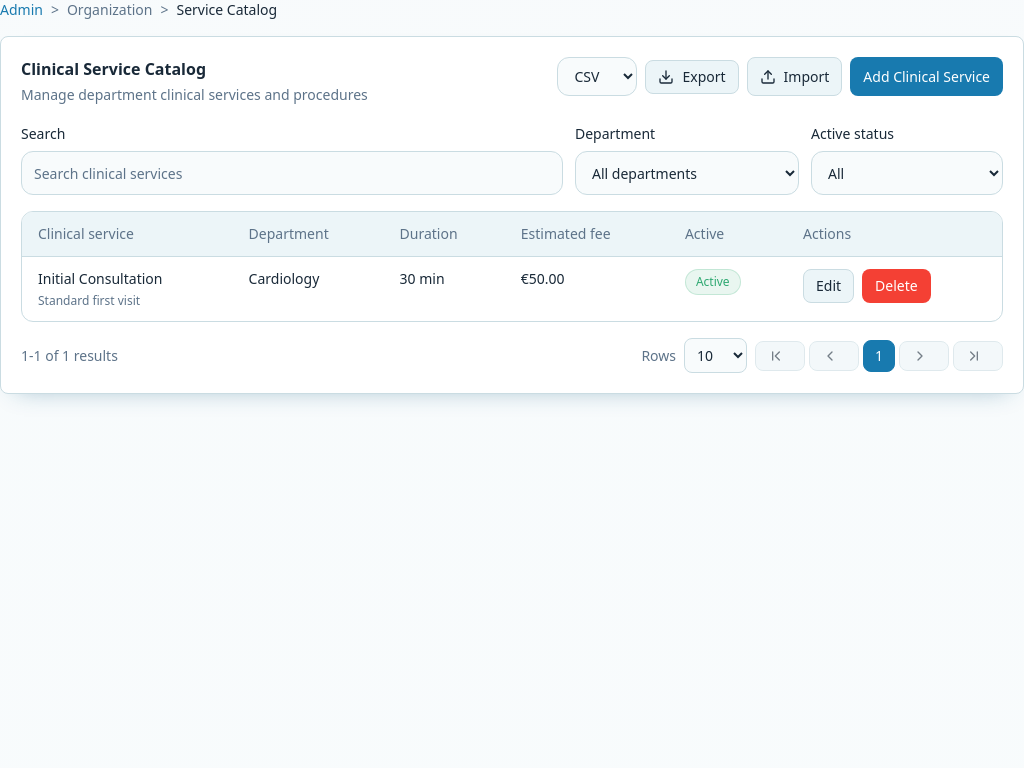
it: ServicesPage › updates an existing service
This screenshot has width=1024, height=768.
Expected: the text "Initial Consultation" is shown, [38,269,162,288]
Click the button "Edit": (829, 286) [803,269,854,303]
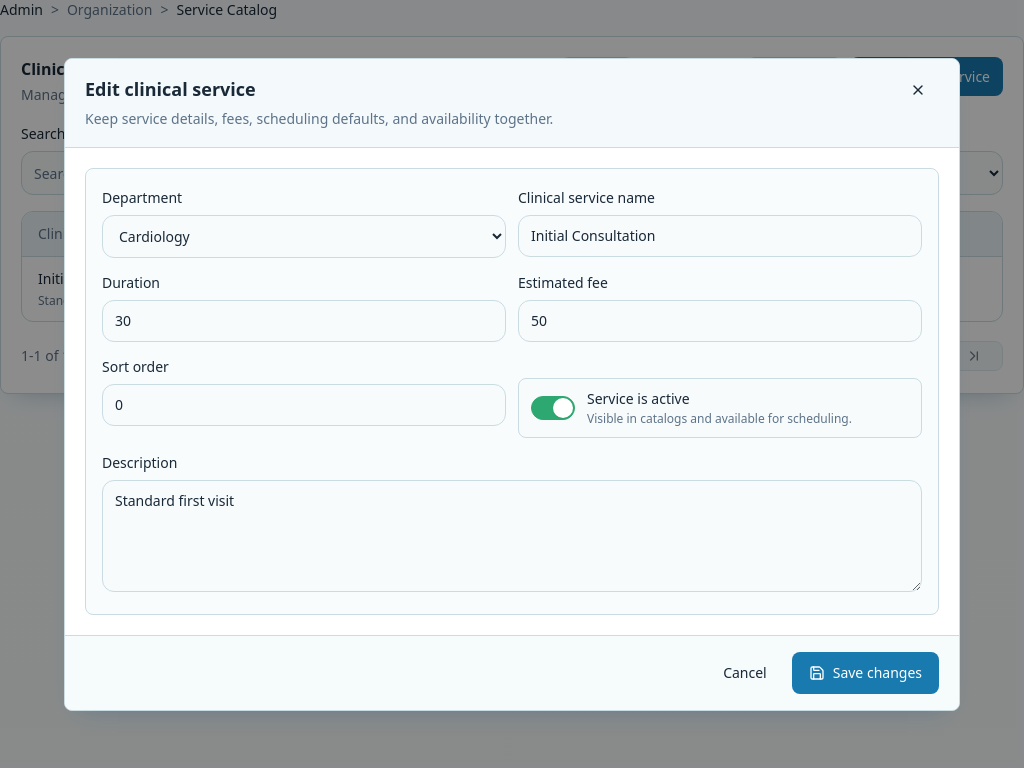
Replace the text in the field with id "service-name" with "Updated Consultation": (720, 236) [518,214,922,256]
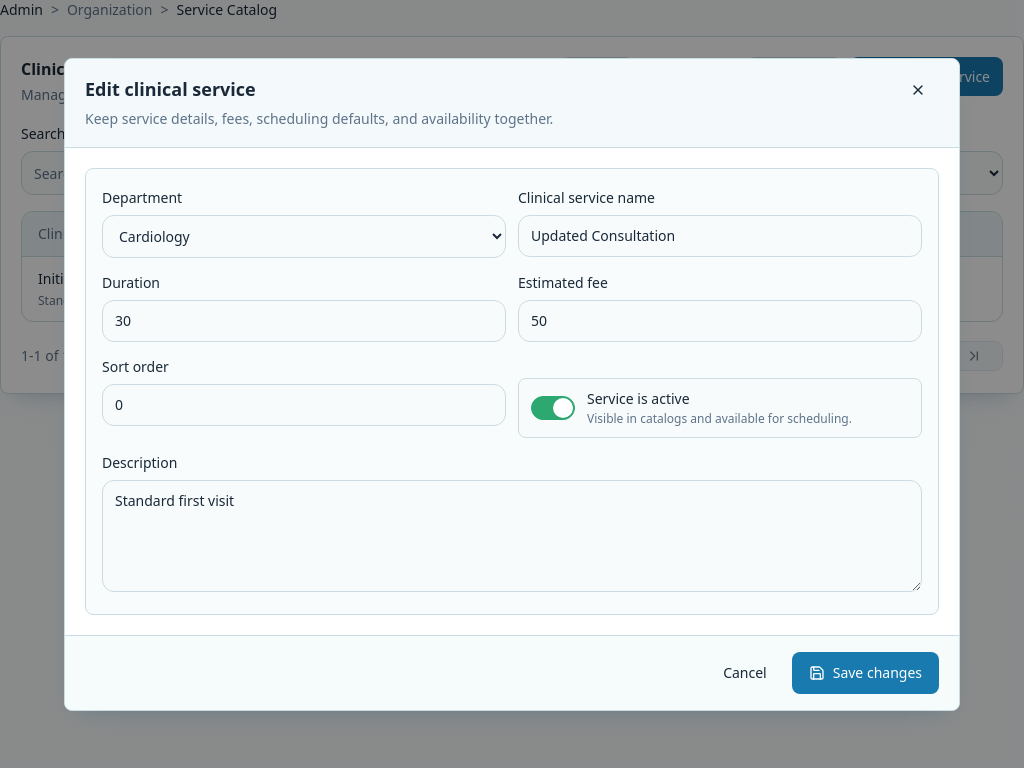
Click the button "Save changes": (865, 672) [792,652,939,694]
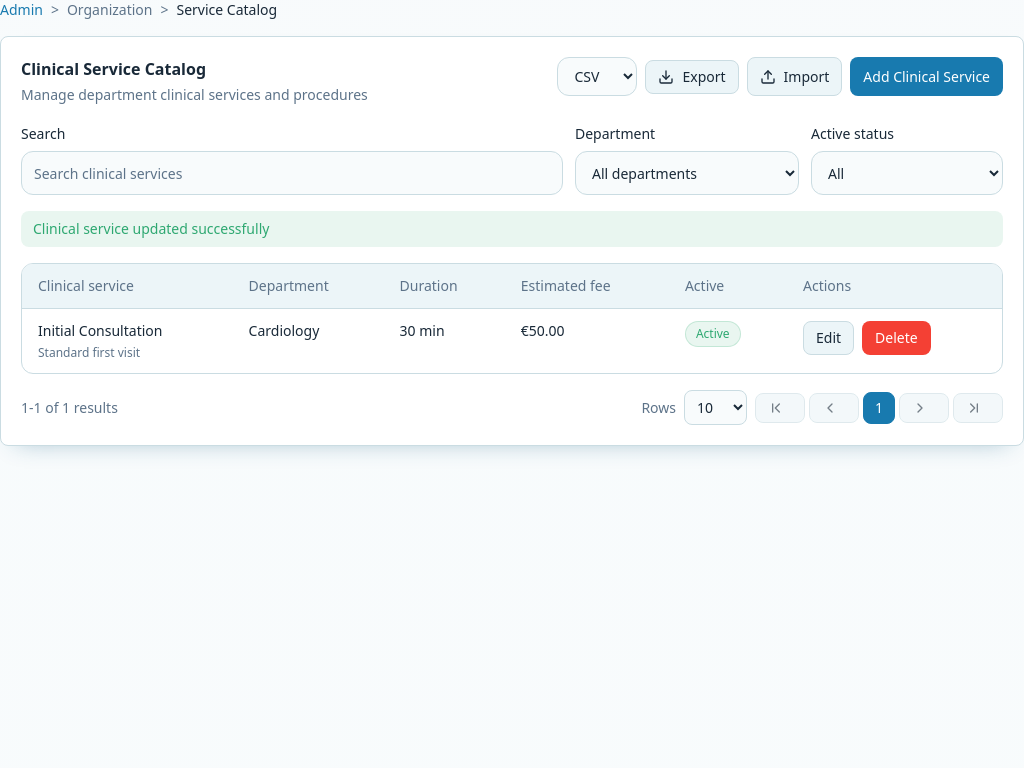
Now the text "Clinical service updated successfully" is shown, box [21,211,1003,247]
